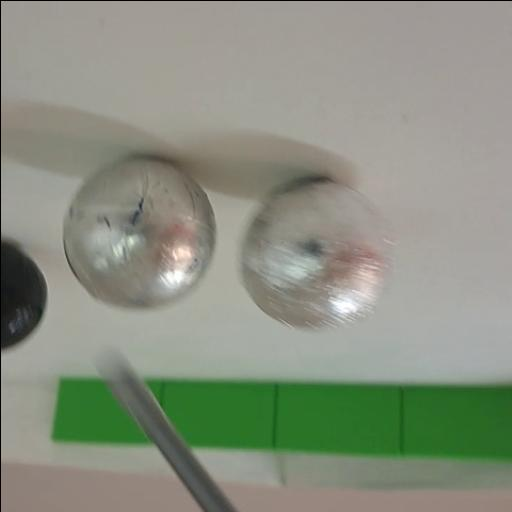alive: (62, 154, 218, 314), (238, 174, 394, 332)
dead: (0, 238, 48, 358)
